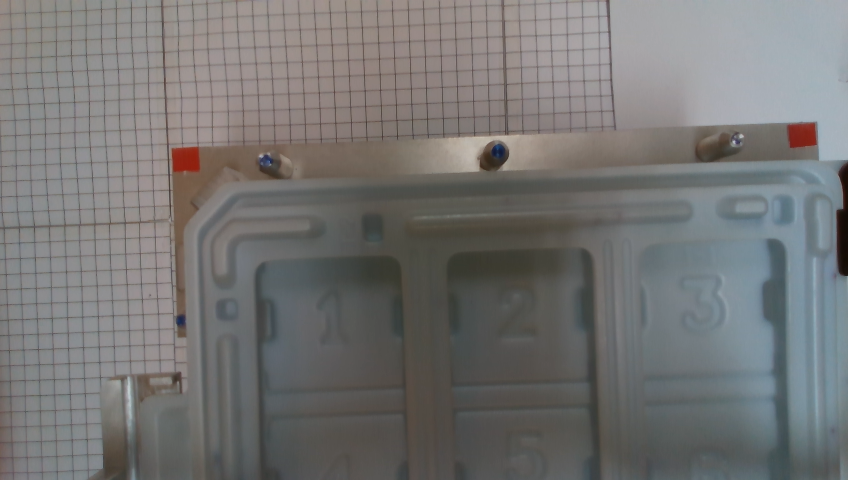red: (788, 123, 816, 147), (172, 148, 199, 171)
